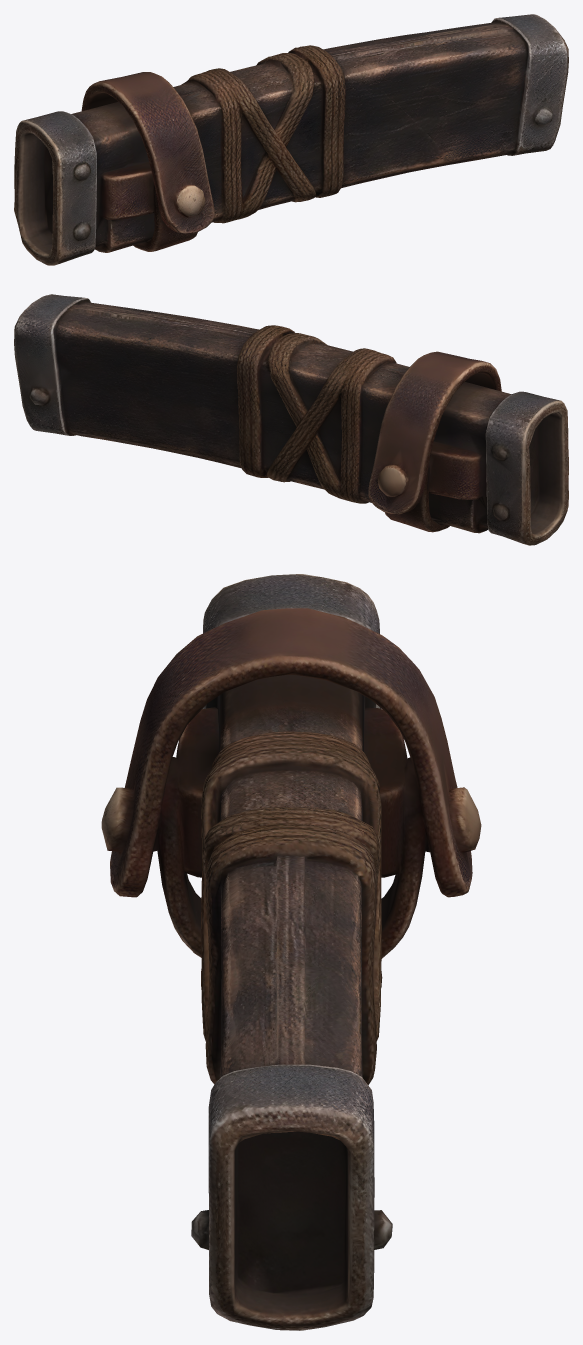
Rendered from leather knife sheath 3d model.glb.
The picture shows the model from 3 angles, top to bottom: view 1: azimuth 30°, elevation 25°; view 2: azimuth 150°, elevation 25°; view 3: azimuth 270°, elevation 25°; orthographic projection. The views are drawn at different scales.
Visible parts, largest first — view 1: tripo_node_ecbc055b-50d3-42d7-bd24-64a73329efad; view 2: tripo_node_ecbc055b-50d3-42d7-bd24-64a73329efad; view 3: tripo_node_ecbc055b-50d3-42d7-bd24-64a73329efad.
Part boxes in pixels (x1=…): tripo_node_ecbc055b-50d3-42d7-bd24-64a73329efad: x1=14, y1=14, x2=568, y2=265; tripo_node_ecbc055b-50d3-42d7-bd24-64a73329efad: x1=14, y1=294, x2=568, y2=545; tripo_node_ecbc055b-50d3-42d7-bd24-64a73329efad: x1=101, y1=574, x2=481, y2=1330.
Bounding box in the file's own units: 0.9807 × 0.291 × 0.3124.
1 material, 1 textured.
